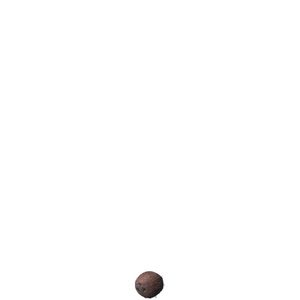coco: (135, 272, 163, 298)
